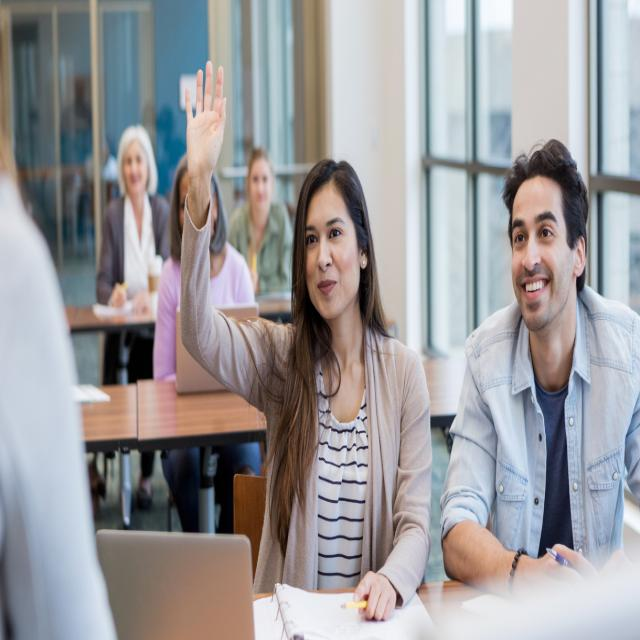adult: (180, 58, 435, 619), (440, 140, 640, 590), (91, 123, 170, 508), (230, 139, 294, 293)
